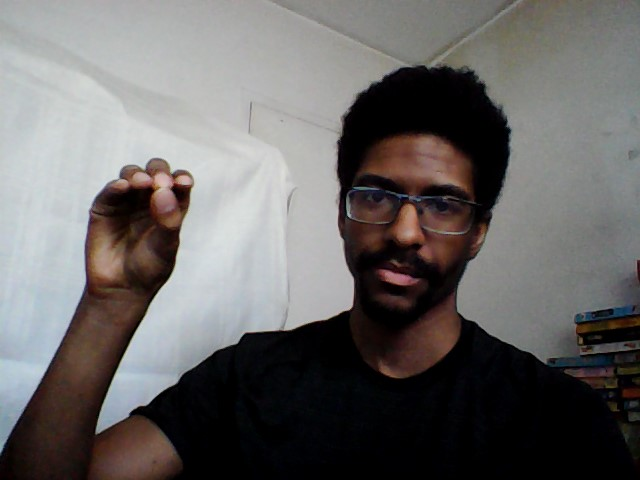o: (79, 152, 197, 300)
